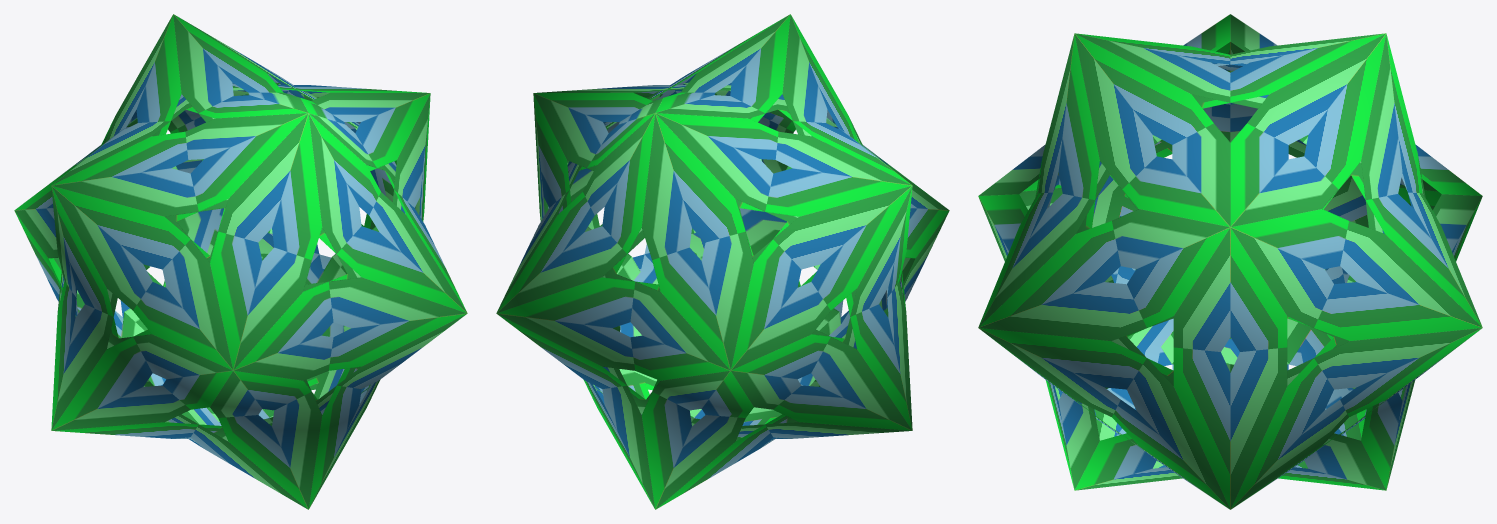
File: 26SmallDodecacronicHexecontahedron.gltf
The picture shows the model from 3 angles, left to right: view 1: azimuth 30°, elevation 25°; view 2: azimuth 150°, elevation 25°; view 3: azimuth 270°, elevation 25°; orthographic projection. The views are drawn at different scales.
Parts seen in each view (by area): view 1: SmallDodecacronicHexecontahedron9; view 2: SmallDodecacronicHexecontahedron9; view 3: SmallDodecacronicHexecontahedron9.
Part boxes in pixels (<box>): SmallDodecacronicHexecontahedron9: <box>14,14,467,509</box>; SmallDodecacronicHexecontahedron9: <box>496,14,949,509</box>; SmallDodecacronicHexecontahedron9: <box>978,14,1482,509</box>.
Size of the model in its own units: 5.24 by 5.24 by 5.24.
Materials: 1 (1 with a texture image).
